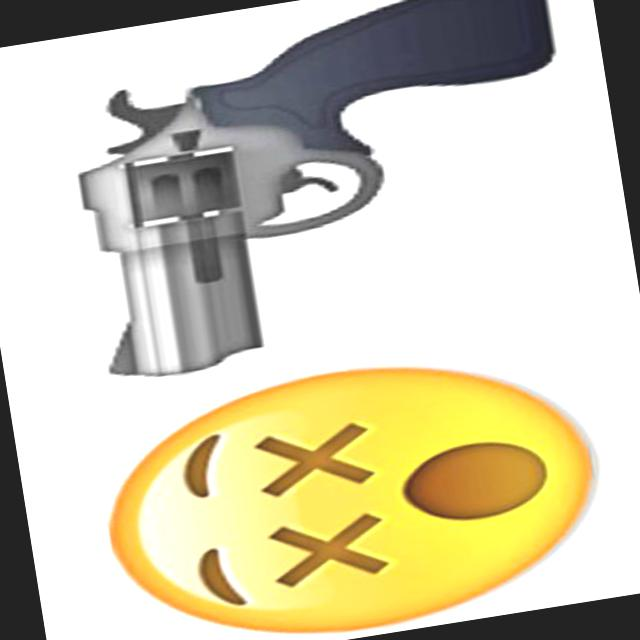handgun: (32, 0, 595, 393)
